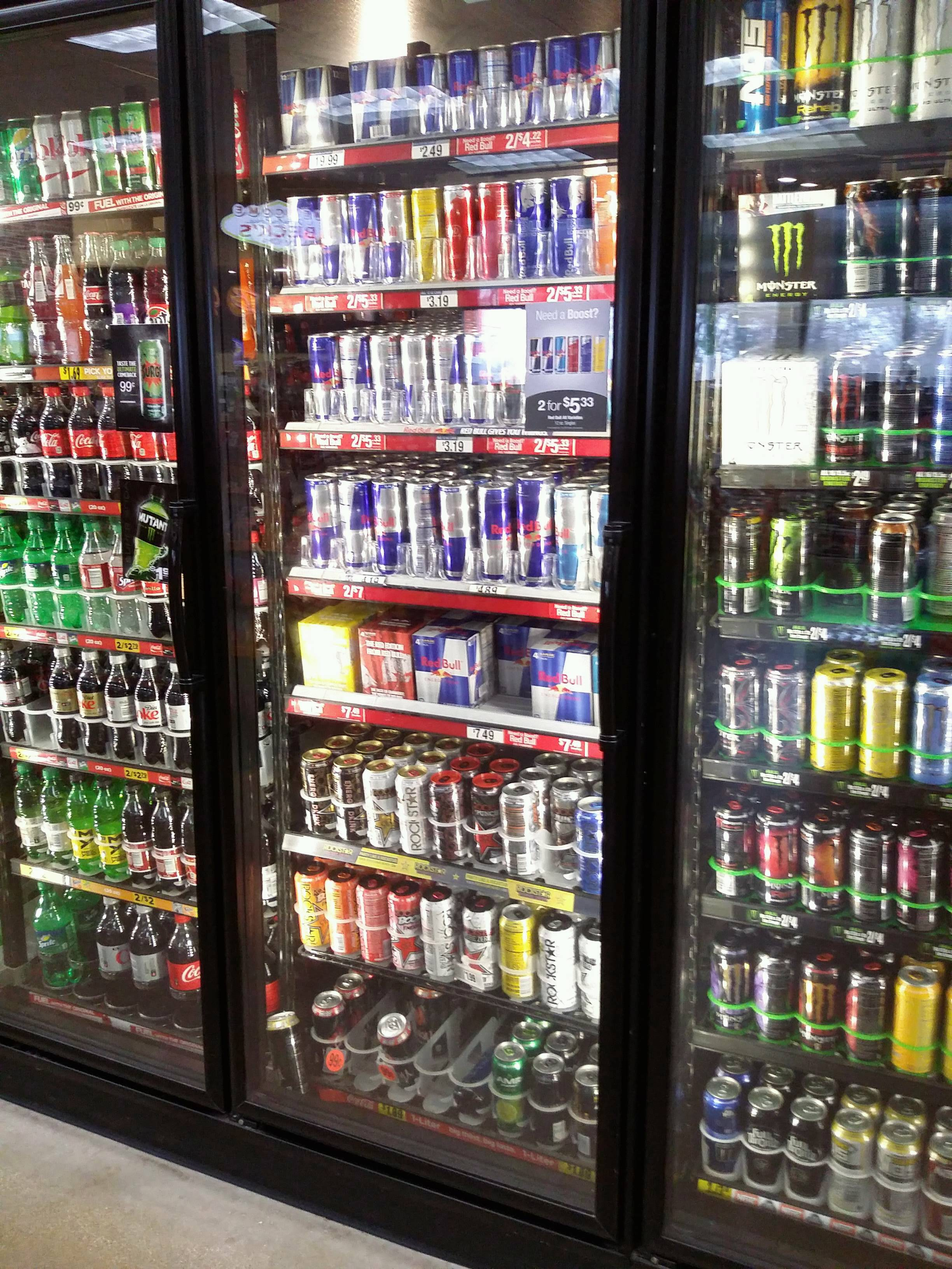Bottle: (32, 883, 78, 998), (164, 909, 201, 1038), (110, 235, 143, 372), (131, 904, 163, 1035), (80, 518, 112, 638), (55, 230, 82, 368), (114, 519, 145, 638), (145, 235, 174, 362), (101, 383, 130, 503), (27, 231, 52, 370), (99, 897, 128, 1015), (2, 641, 33, 751), (94, 771, 122, 892), (136, 652, 164, 772), (40, 383, 68, 502), (168, 657, 195, 777), (41, 766, 69, 880), (80, 646, 107, 763), (25, 515, 51, 633), (152, 785, 179, 898), (52, 514, 77, 636), (73, 384, 98, 505), (180, 784, 205, 904), (124, 777, 150, 892), (15, 381, 40, 499), (85, 225, 105, 372), (51, 645, 77, 758), (70, 771, 96, 883), (109, 650, 132, 765), (3, 237, 23, 369), (15, 761, 38, 872), (2, 509, 23, 626)
can: (753, 163, 840, 303), (790, 0, 846, 126), (850, 0, 906, 126), (897, 175, 952, 299), (844, 176, 893, 299), (892, 965, 942, 1081), (705, 163, 744, 310), (808, 664, 857, 775), (870, 515, 916, 629), (718, 503, 762, 619), (910, 0, 952, 121), (878, 349, 921, 467), (742, 2, 780, 133), (862, 668, 906, 781), (767, 514, 813, 622), (530, 646, 591, 727), (296, 620, 355, 702), (897, 828, 943, 933), (875, 1120, 917, 1235), (310, 987, 356, 1091), (827, 349, 867, 467), (911, 675, 952, 788), (798, 952, 842, 1056), (802, 809, 845, 915), (846, 959, 888, 1067), (413, 634, 471, 711), (763, 661, 805, 767), (700, 1077, 743, 1180), (719, 658, 760, 766), (833, 1110, 873, 1220), (828, 498, 867, 610), (376, 1013, 423, 1105), (852, 819, 892, 925), (757, 803, 797, 907), (528, 1054, 566, 1163), (712, 801, 753, 902), (515, 474, 550, 591), (267, 1006, 306, 1111), (357, 629, 411, 704), (489, 1042, 525, 1154), (788, 1100, 826, 1203), (551, 173, 587, 279), (502, 787, 544, 877), (499, 902, 534, 1010), (539, 912, 575, 1017), (756, 944, 794, 1042), (748, 1089, 783, 1194), (119, 96, 154, 198), (555, 484, 587, 595), (422, 882, 456, 985), (712, 934, 748, 1031), (478, 482, 511, 587), (441, 482, 474, 585), (444, 180, 476, 285), (463, 898, 497, 996), (591, 166, 620, 279), (306, 473, 338, 574), (924, 505, 952, 620), (923, 1136, 952, 1247), (574, 1064, 604, 1171), (509, 35, 542, 132), (373, 477, 403, 583), (515, 176, 546, 278), (303, 61, 338, 151), (926, 349, 952, 470), (412, 180, 441, 288), (479, 180, 510, 281), (544, 35, 579, 124), (343, 55, 376, 149), (431, 773, 465, 863), (285, 192, 315, 294), (581, 29, 614, 120), (296, 746, 329, 836), (408, 477, 437, 579), (380, 186, 408, 290), (341, 476, 370, 576), (364, 760, 395, 853), (463, 330, 493, 426), (89, 99, 118, 198), (579, 923, 606, 1029), (397, 766, 428, 858), (388, 883, 418, 978), (317, 192, 346, 289), (294, 869, 324, 961), (306, 333, 335, 427), (478, 41, 507, 135), (469, 777, 498, 870), (327, 872, 356, 964), (402, 332, 431, 424), (58, 104, 86, 199), (495, 621, 527, 703), (416, 47, 443, 144), (339, 333, 368, 423), (380, 58, 411, 142), (350, 189, 376, 289), (447, 44, 474, 140), (358, 879, 387, 968), (3, 110, 29, 209), (578, 797, 604, 894), (334, 753, 361, 845), (434, 332, 459, 426), (373, 332, 398, 425), (495, 341, 522, 427), (276, 65, 301, 153), (550, 783, 574, 872), (32, 108, 53, 205), (450, 1074, 485, 1132)
